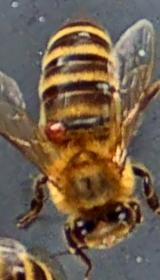varroa_mite: (38, 112, 80, 151)
